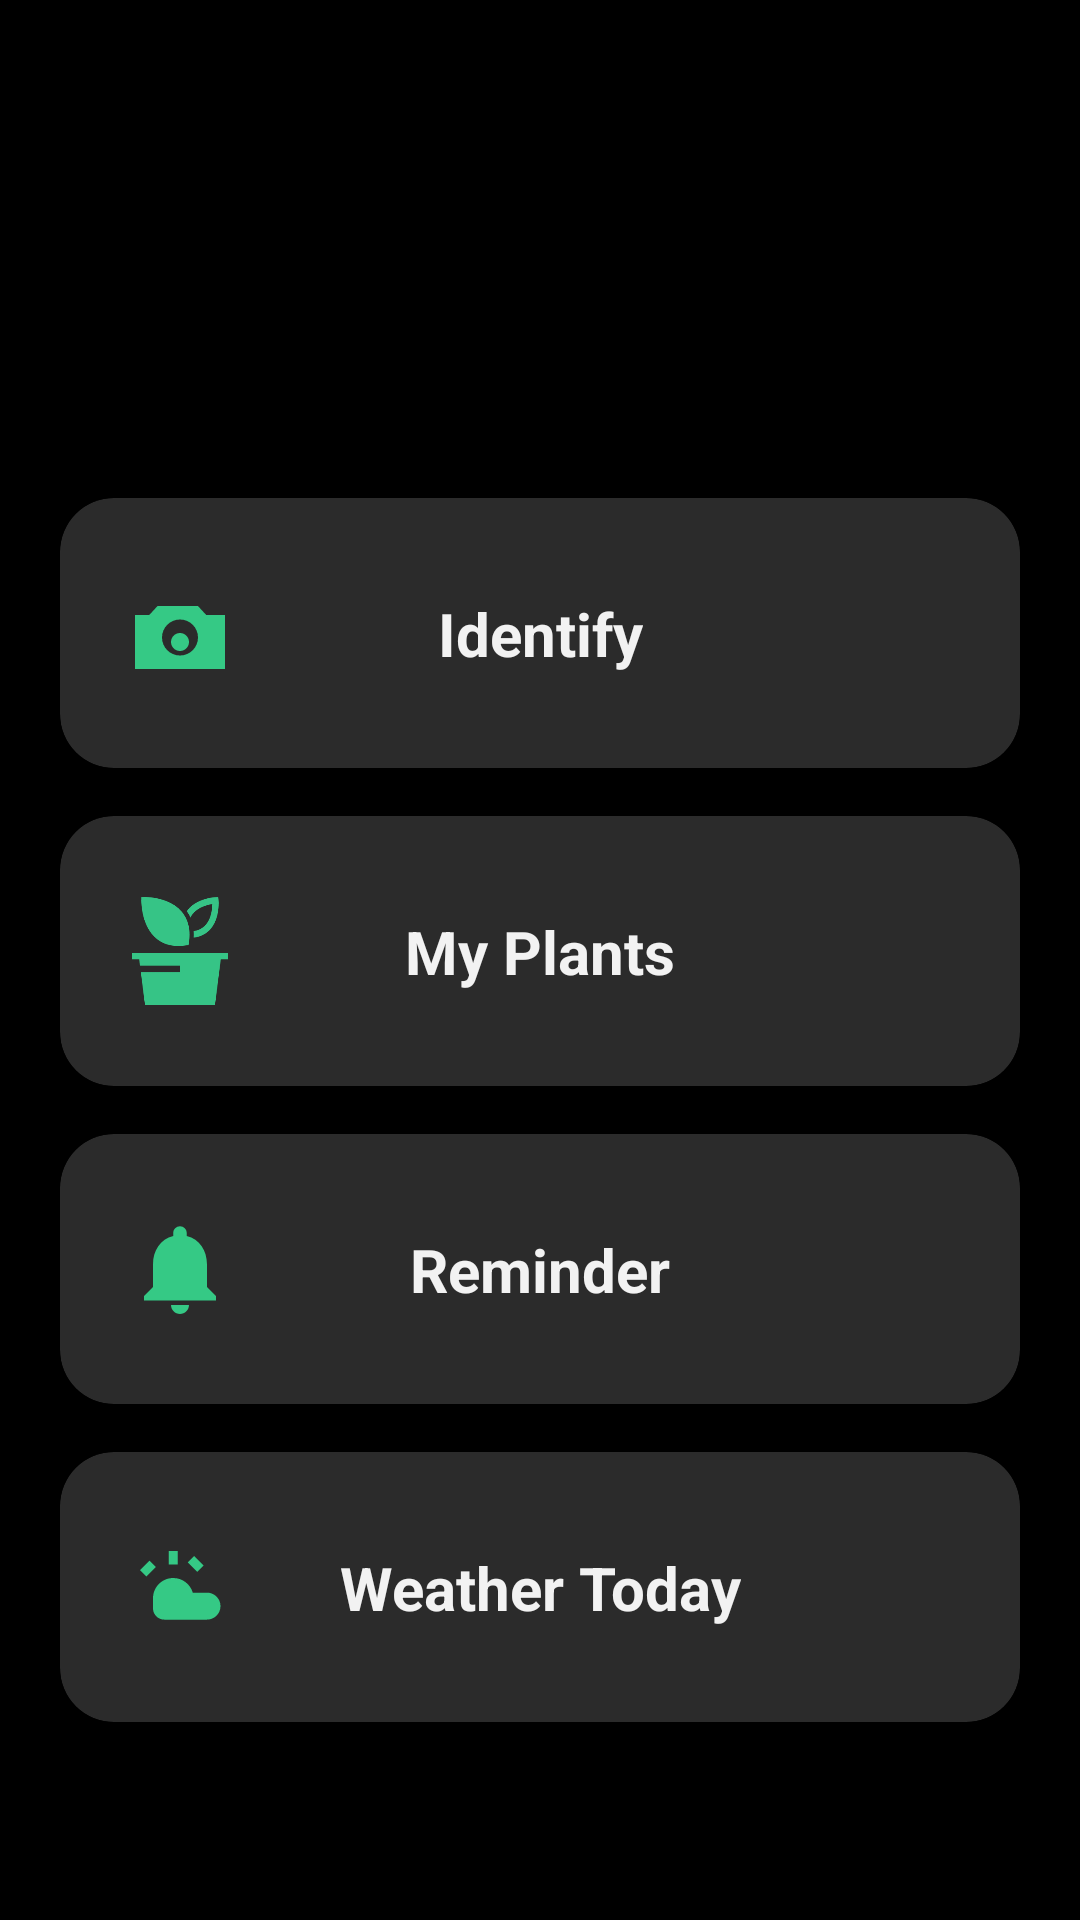

Locate icon controls on the screen. Image size 1080*1920, boxes as (x1=x1, y1=y1, x2=x2, y2=y2).
camera home: (x1=135, y1=606, x2=225, y2=669)
plant: (x1=132, y1=897, x2=228, y2=1005)
reminder home: (x1=144, y1=1226, x2=216, y2=1314)
weather home: (x1=140, y1=1551, x2=221, y2=1620)
